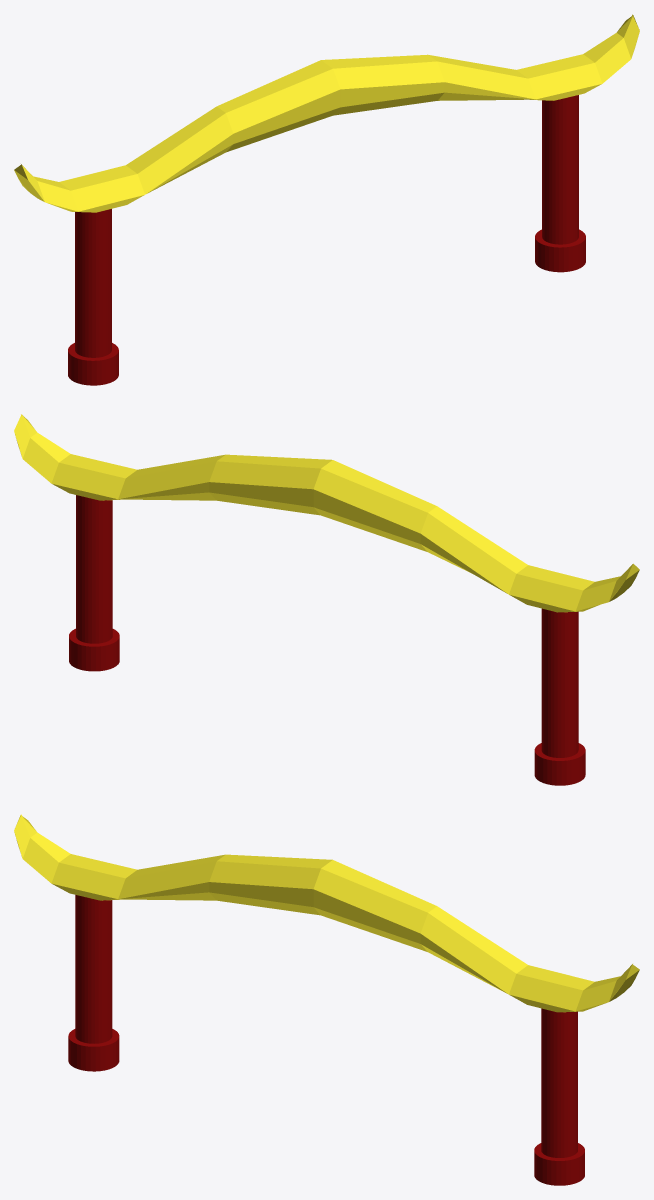
Rendered from arch.fbx.
The picture shows the model from 3 angles, top to bottom: view 1: azimuth 30°, elevation 25°; view 2: azimuth 150°, elevation 25°; view 3: azimuth 330°, elevation 25°; orthographic projection.
Parts seen in each view (by area): view 1: Cube.020, Cylinder.020, Cylinder.021; view 2: Cube.020, Cylinder.020, Cylinder.021; view 3: Cube.020, Cylinder.020, Cylinder.021.
Part boxes in pixels (x1,y1,x2,y2): Cube.020: [14, 14, 639, 212]; Cylinder.020: [68, 209, 118, 385]; Cylinder.021: [535, 95, 585, 272]; Cube.020: [14, 414, 639, 612]; Cylinder.020: [534, 608, 585, 785]; Cylinder.021: [69, 495, 119, 671]; Cube.020: [14, 814, 639, 1012]; Cylinder.020: [68, 895, 119, 1071]; Cylinder.021: [534, 1008, 584, 1185].
Size of the model in its own units: 2604 by 1032 by 199.
